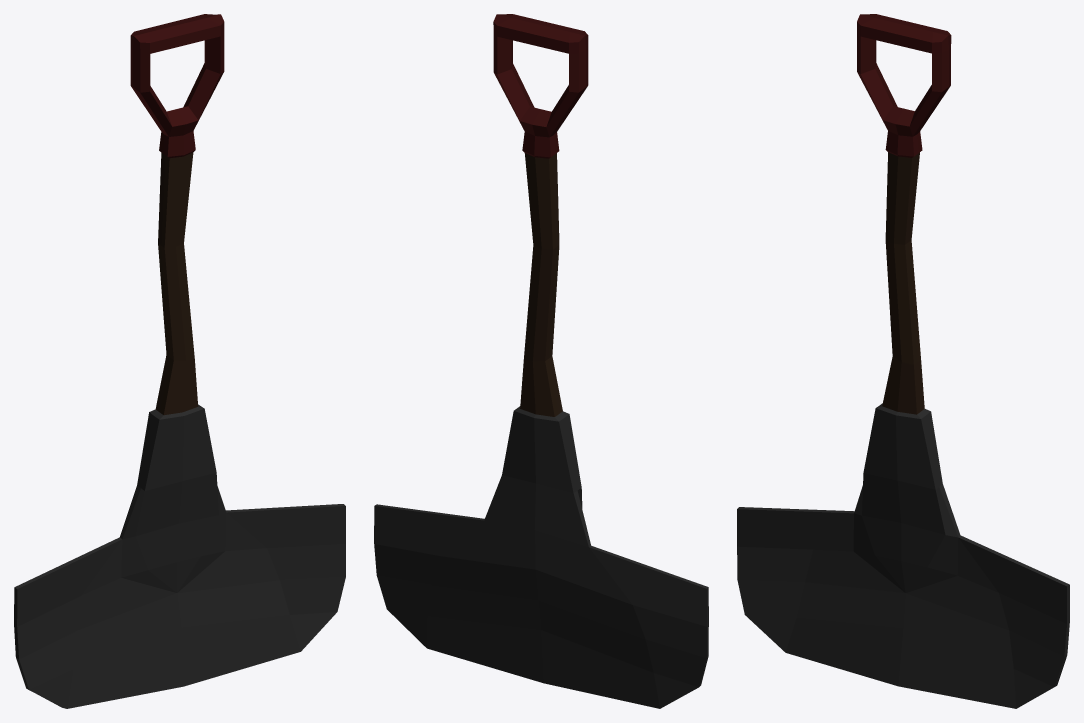
The model's file is Shovel_Snow.obj.
3 views of the same model, side by side, from view 1: azimuth 30°, elevation 25°; view 2: azimuth 150°, elevation 25°; view 3: azimuth 330°, elevation 25° (orthographic).
Visible parts, largest first — view 1: Shovel; view 2: Shovel; view 3: Shovel.
Boxes of the visible parts, x1,y1,x2,y2 form: Shovel: (14,14,345,708); Shovel: (374,14,708,708); Shovel: (737,14,1069,708).
Bounding box in the file's own units: 2 × 3.79 × 0.1837.
